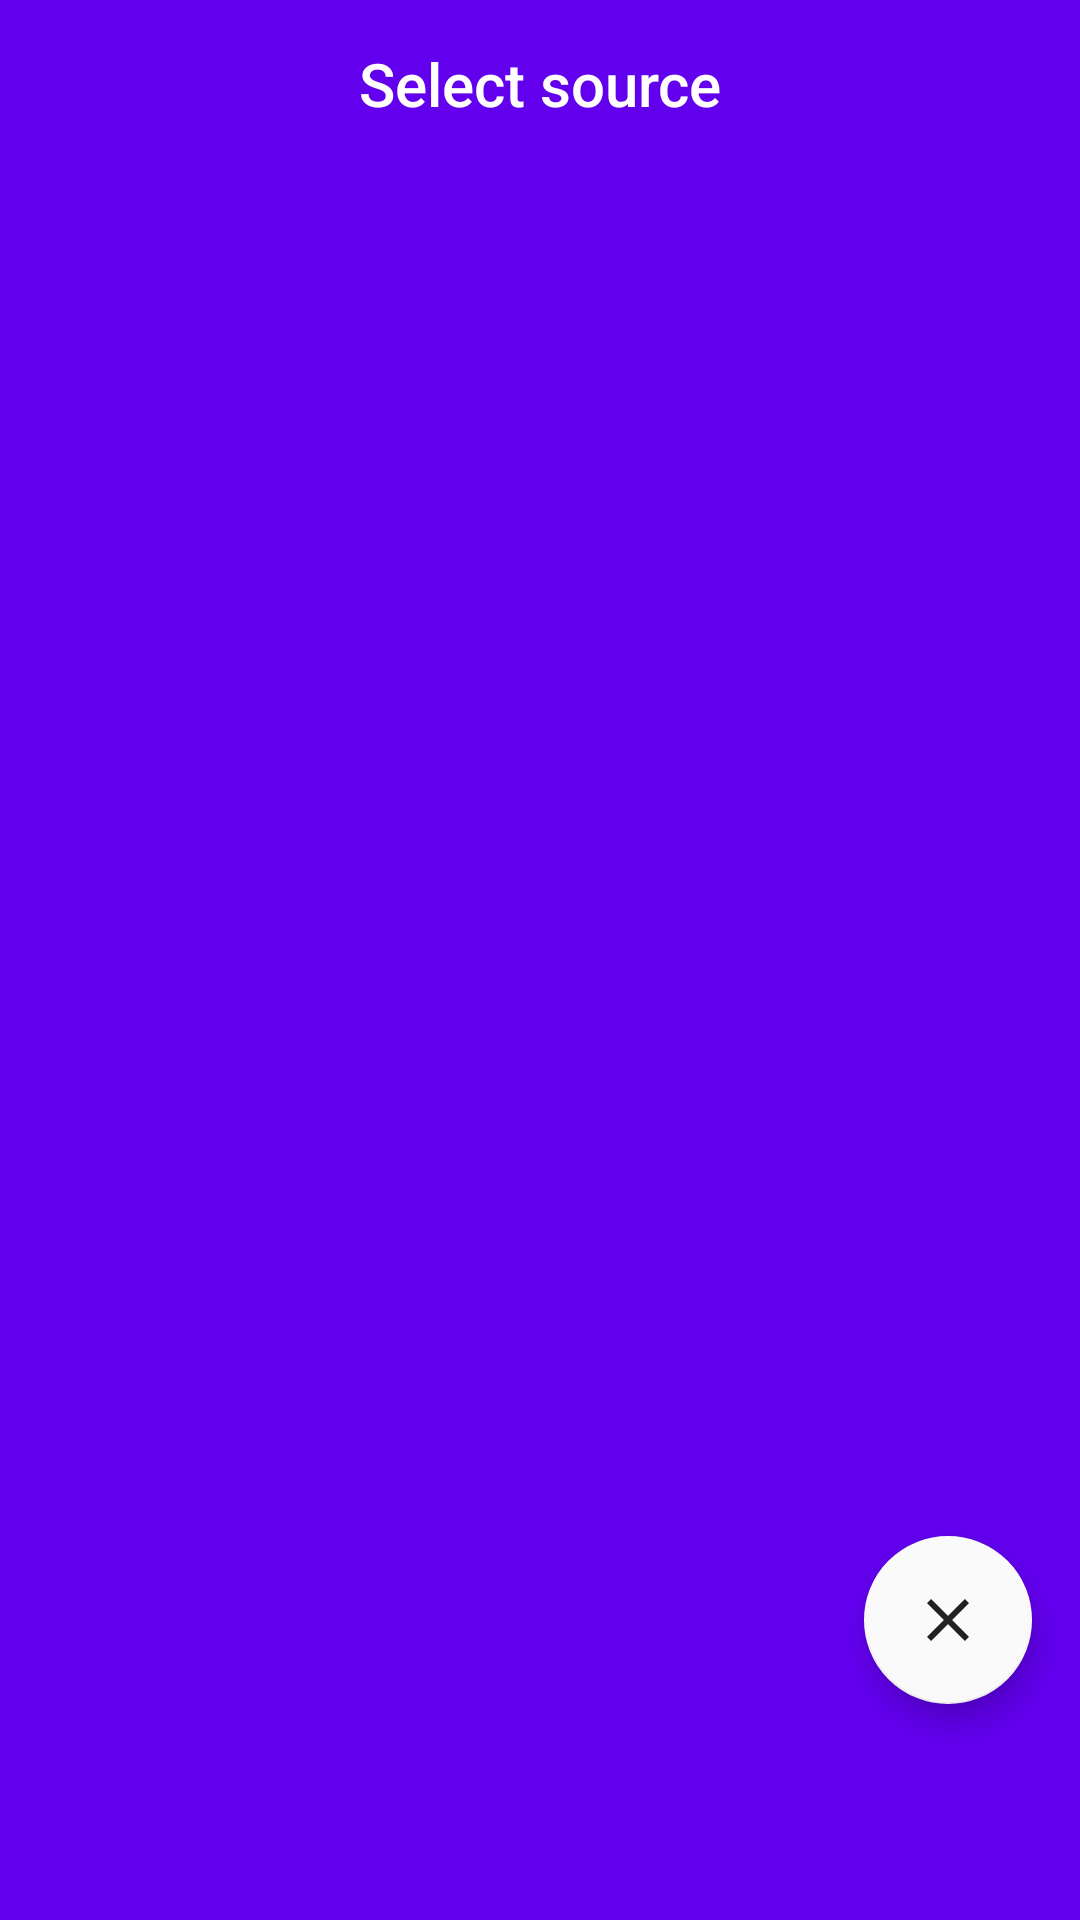

Where to tap for icons on this 1080 × 1920 app screen, as point (x, y):
close: point (948, 1620)
